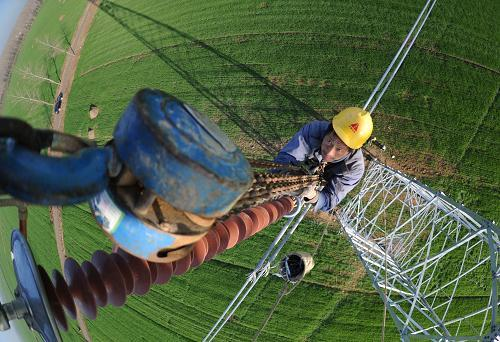gloves: (299, 183, 319, 204), (297, 157, 319, 174)
hard-hat: (331, 107, 373, 150)
person: (269, 105, 374, 213)
